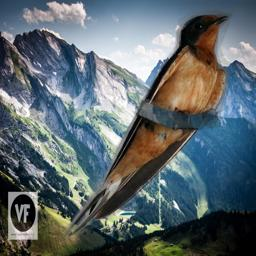Swallow: (59, 8, 235, 238)
